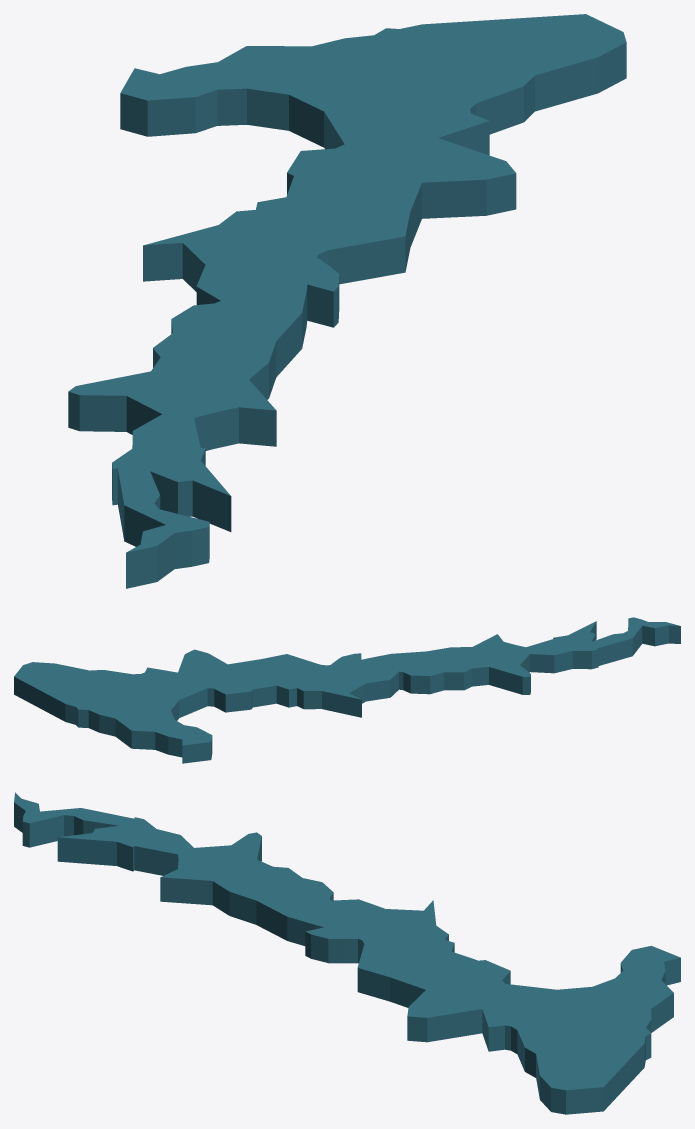
File: deepcreek.glb
3 renders of one model, top to bottom at view 1: azimuth 30°, elevation 25°; view 2: azimuth 150°, elevation 25°; view 3: azimuth 270°, elevation 25°, orthographic. The views are drawn at different scales.
Visible parts, largest first — view 1: deepcreek; view 2: deepcreek; view 3: deepcreek.
Boxes of the visible parts, x1,y1,x2,y2 form: deepcreek: (68, 14, 626, 588); deepcreek: (14, 617, 680, 763); deepcreek: (14, 792, 680, 1114).
Bounding box in the file's own units: 1.49 × 0.0568 × 1.41.
